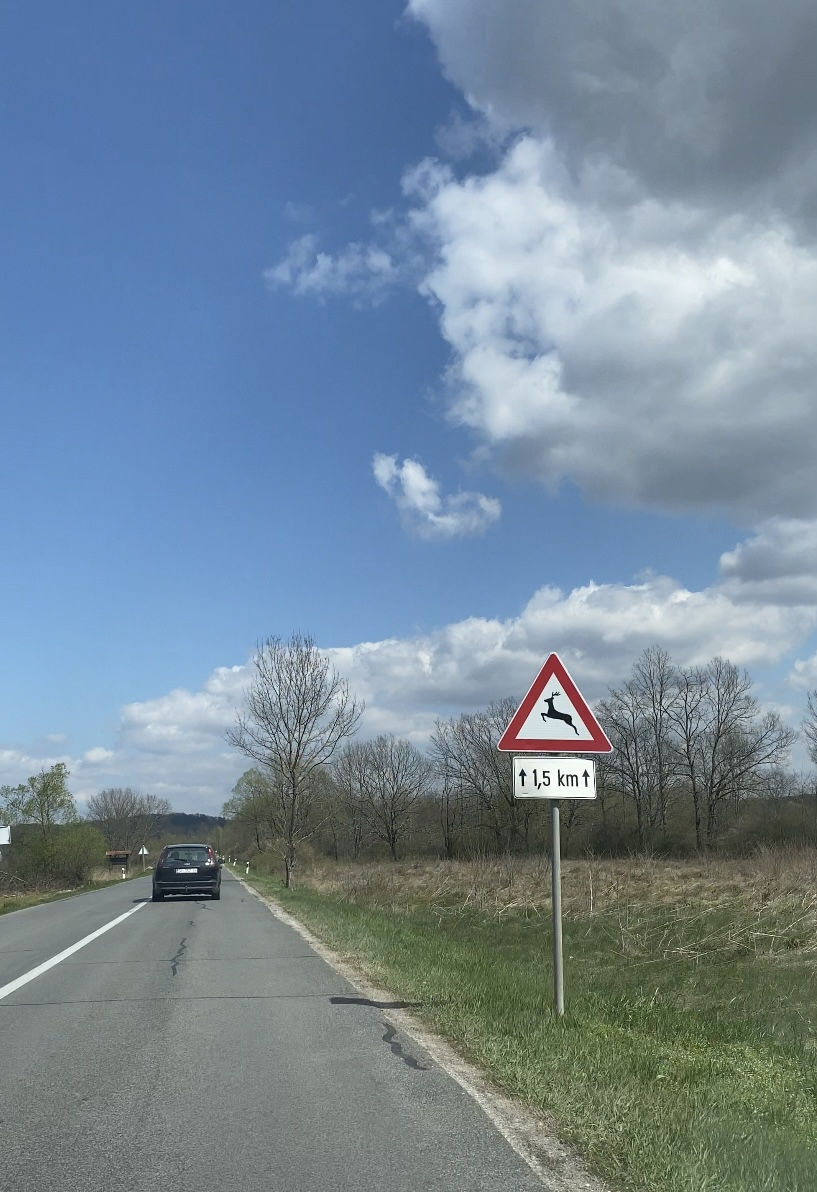Divljač na cesti: (497, 652, 614, 752)
